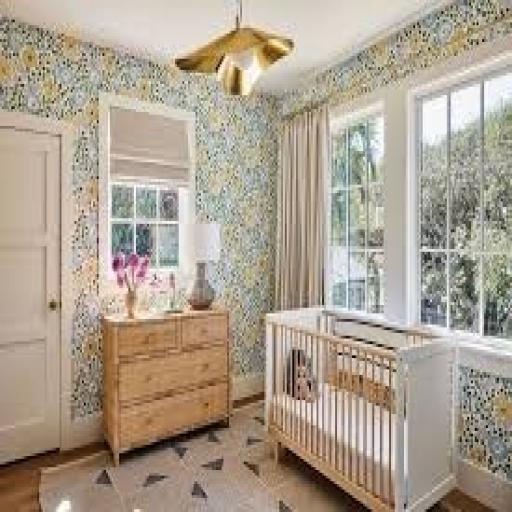crib: (266, 306, 458, 512)
